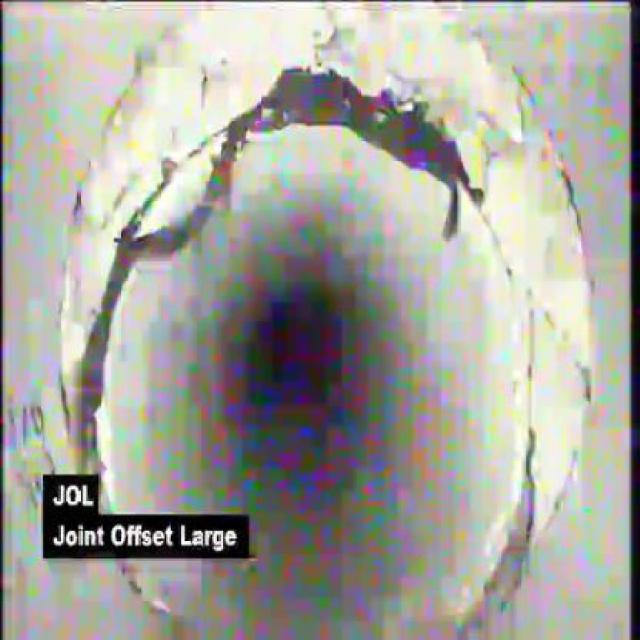Joint offset: (462, 31, 606, 580), (91, 9, 460, 162), (40, 165, 169, 457)
